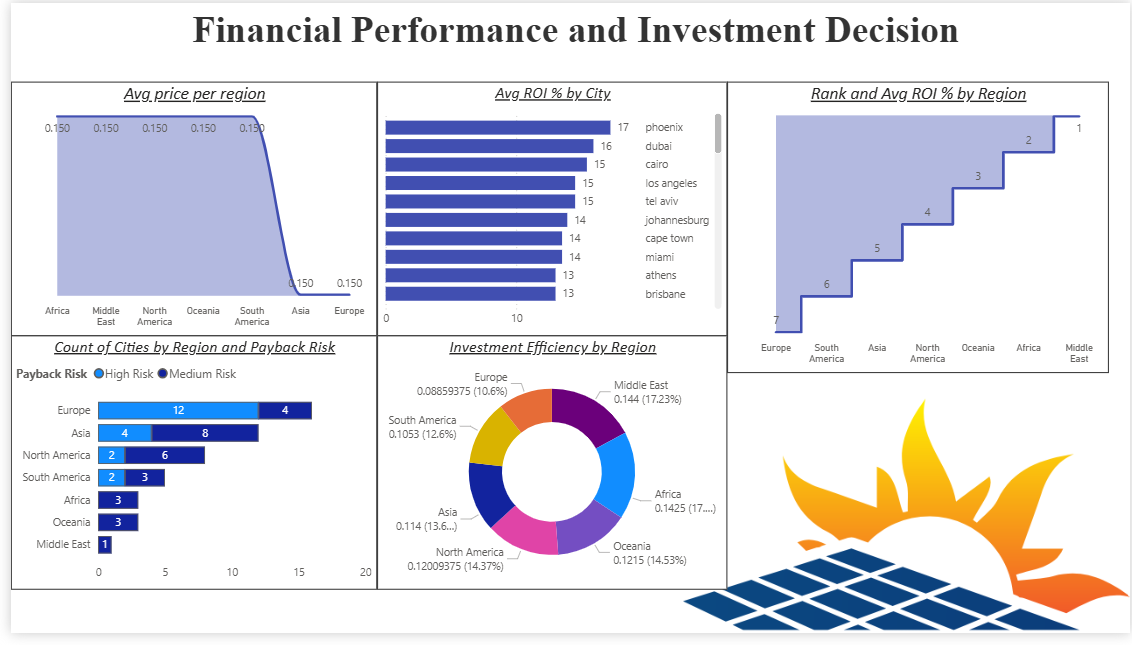

The dashboard page shown, as its layout file describes it:
{"tool":"powerbi","page":{"name":"Financial Performance and Investment Decision","canvas":[1280,720],"ordinal":0},"visuals":[{"type":"textbox","box":[11.4,0,1268.6,70],"z":0},{"type":"lineChart","title":"Avg price per region","fields":{"Y":["Avg(solar_project solar_energy_worldwide.Electricity_Price_USD_per_kWh)"],"Category":["solar_project solar_energy_worldwide.Region"]},"box":[0,90,418.3,290],"z":1000},{"type":"barChart","fields":{"Y":["Measure Table.Avg ROI %"],"Category":["solar_project solar_energy_worldwide.City"]},"box":[418.3,90,400,290],"z":2000},{"type":"barChart","title":"Count of Cities by Region and Payback Risk","fields":{"Category":["solar_project solar_energy_worldwide.Region"],"Y":["CountNonNull(solar_project solar_energy_worldwide.City)"],"Series":["solar_project solar_energy_worldwide.Payback Risk"]},"box":[0,380,418.3,290],"z":3000},{"type":"donutChart","fields":{"Y":["Measure Table.Investment Efficiency"],"Category":["solar_project solar_energy_worldwide.Region"]},"box":[418,380,400,290],"z":4000},{"type":"lineChart","fields":{"Y":["Measure Table.Rank"],"Category":["solar_project solar_energy_worldwide.Region"]},"box":[818.6,90,435.7,332.9],"z":5000}]}

Visuals, with their boxes in screenshot pixels (x1, y1, x2, y2), scaled from the page's 1280x720 canvas onto the 1132x645 screenshot:
textbox: locate(10, 0, 1131, 63)
"Avg price per region" lineChart: locate(0, 81, 370, 340)
barChart - Measure Table.Avg ROI % x solar_project solar_energy_worldwide.City: locate(370, 81, 724, 340)
"Count of Cities by Region and Payback Risk" barChart: locate(0, 340, 370, 600)
donutChart - Measure Table.Investment Efficiency x solar_project solar_energy_worldwide.Region: locate(370, 340, 723, 600)
lineChart - Measure Table.Rank x solar_project solar_energy_worldwide.Region: locate(724, 81, 1109, 379)
